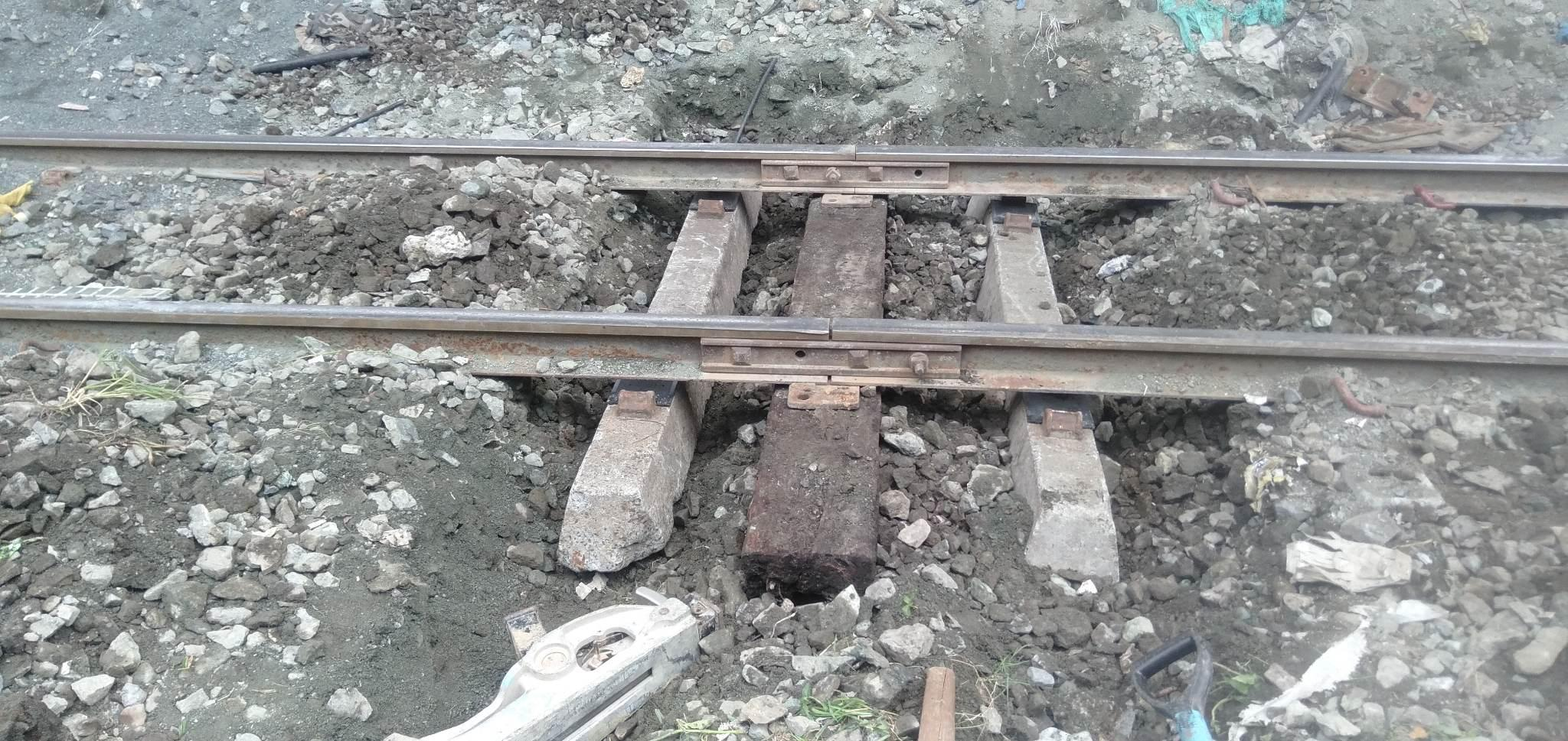railway-gap: (795, 300, 863, 356), (826, 128, 885, 179)
